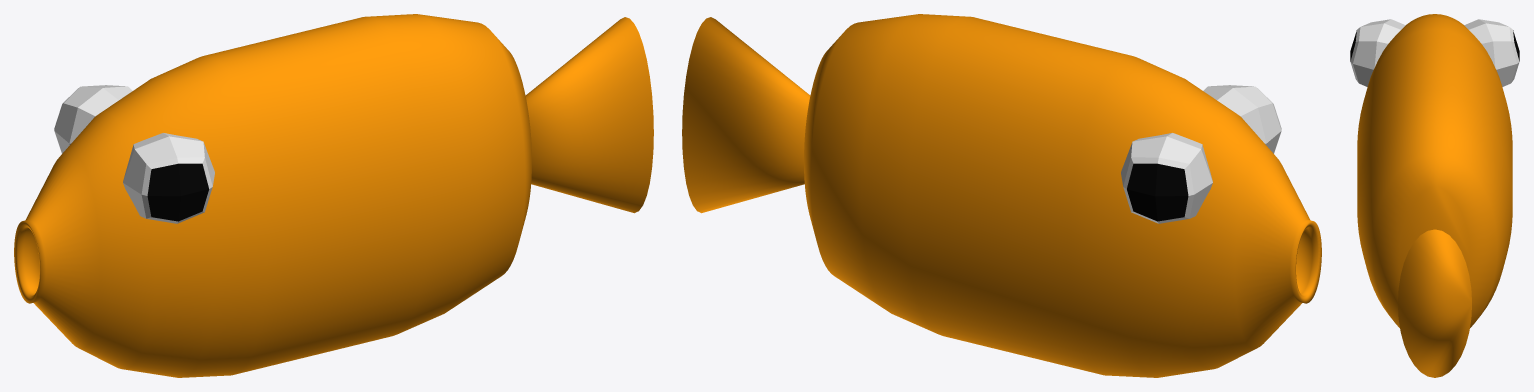
Rendered from fishfood.fbx.
The picture shows the model from 3 angles, left to right: view 1: azimuth 30°, elevation 25°; view 2: azimuth 150°, elevation 25°; view 3: azimuth 270°, elevation 25°; orthographic projection. The views are drawn at different scales.
Visible parts, largest first — view 1: Cone, Eyes; view 2: Cone, Eyes; view 3: Cone, Eyes.
Part boxes in pixels (box(x1,y1,x2,y2)): Cone: box(14, 14, 653, 377); Eyes: box(54, 85, 214, 223); Cone: box(682, 14, 1321, 377); Eyes: box(1121, 85, 1281, 223); Cone: box(1357, 14, 1512, 377); Eyes: box(1350, 19, 1519, 86).
Bounding box in the file's own units: 342 × 169 × 108.
